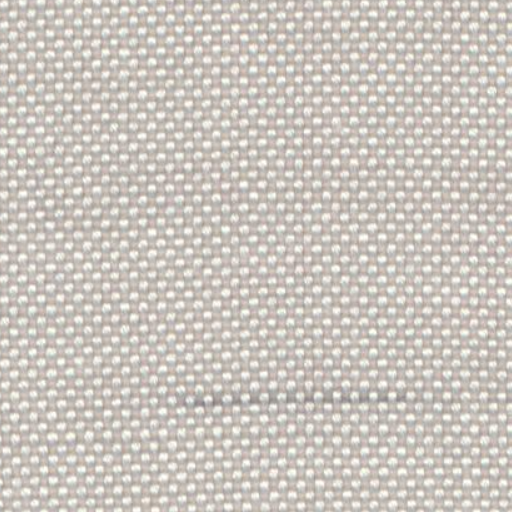WuZi: (184, 378, 421, 410)
